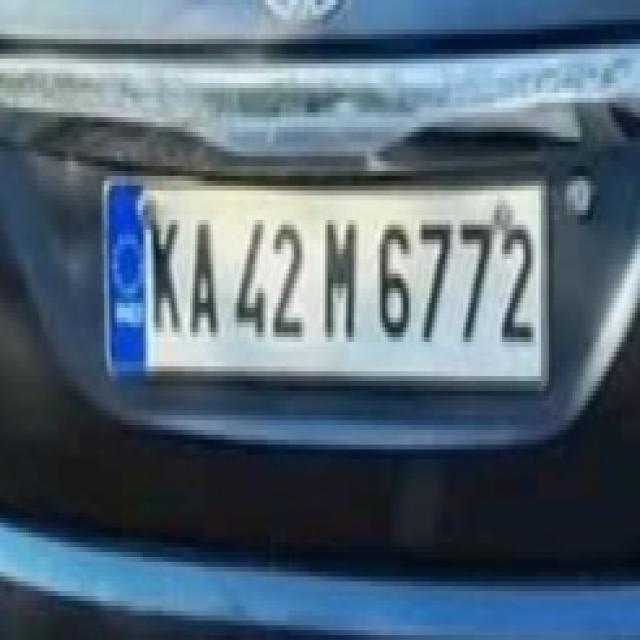4: (232, 208, 266, 350)
6: (372, 210, 412, 341)
7: (416, 210, 454, 354), (459, 215, 495, 344)
A: (187, 214, 224, 341)
K: (146, 212, 182, 332)
M: (318, 208, 360, 349)
